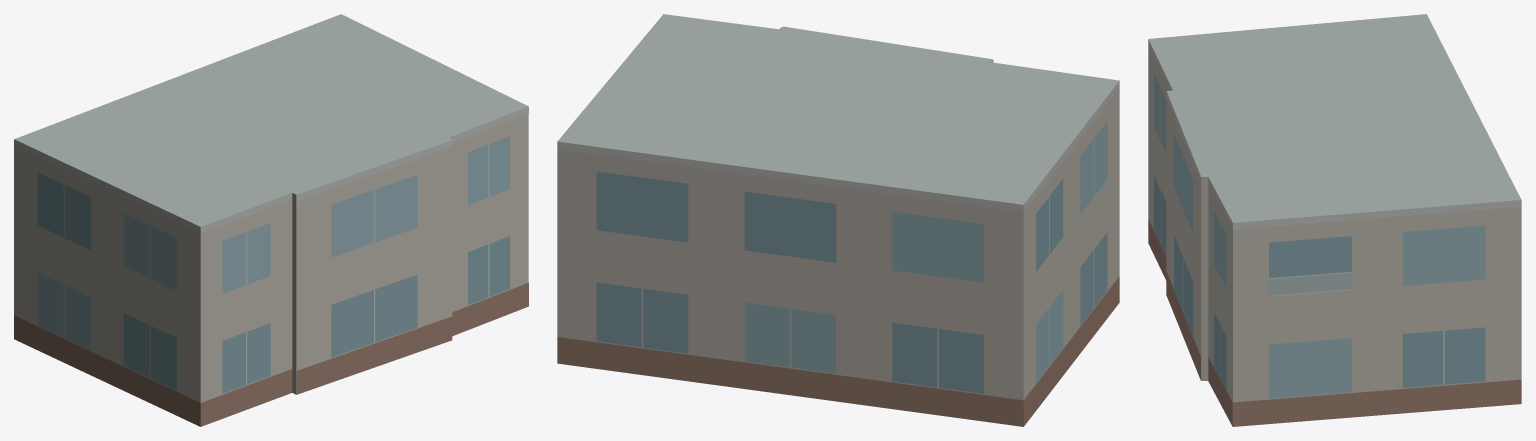
Rendered from survey-upis-32631914.glb.
3 renders of one model, left to right at view 1: azimuth 30°, elevation 25°; view 2: azimuth 150°, elevation 25°; view 3: azimuth 270°, elevation 25°, orthographic. The views are drawn at different scales.
Parts seen in each view (by area): view 1: survey-upis-32631914.tmp; view 2: survey-upis-32631914.tmp; view 3: survey-upis-32631914.tmp.
Part boxes in pixels (x1,y1,x2,y2): survey-upis-32631914.tmp: (14, 14, 528, 426); survey-upis-32631914.tmp: (557, 14, 1119, 426); survey-upis-32631914.tmp: (1148, 14, 1521, 426).
Size of the model in its own units: 15.82 by 7.2 by 11.95.
